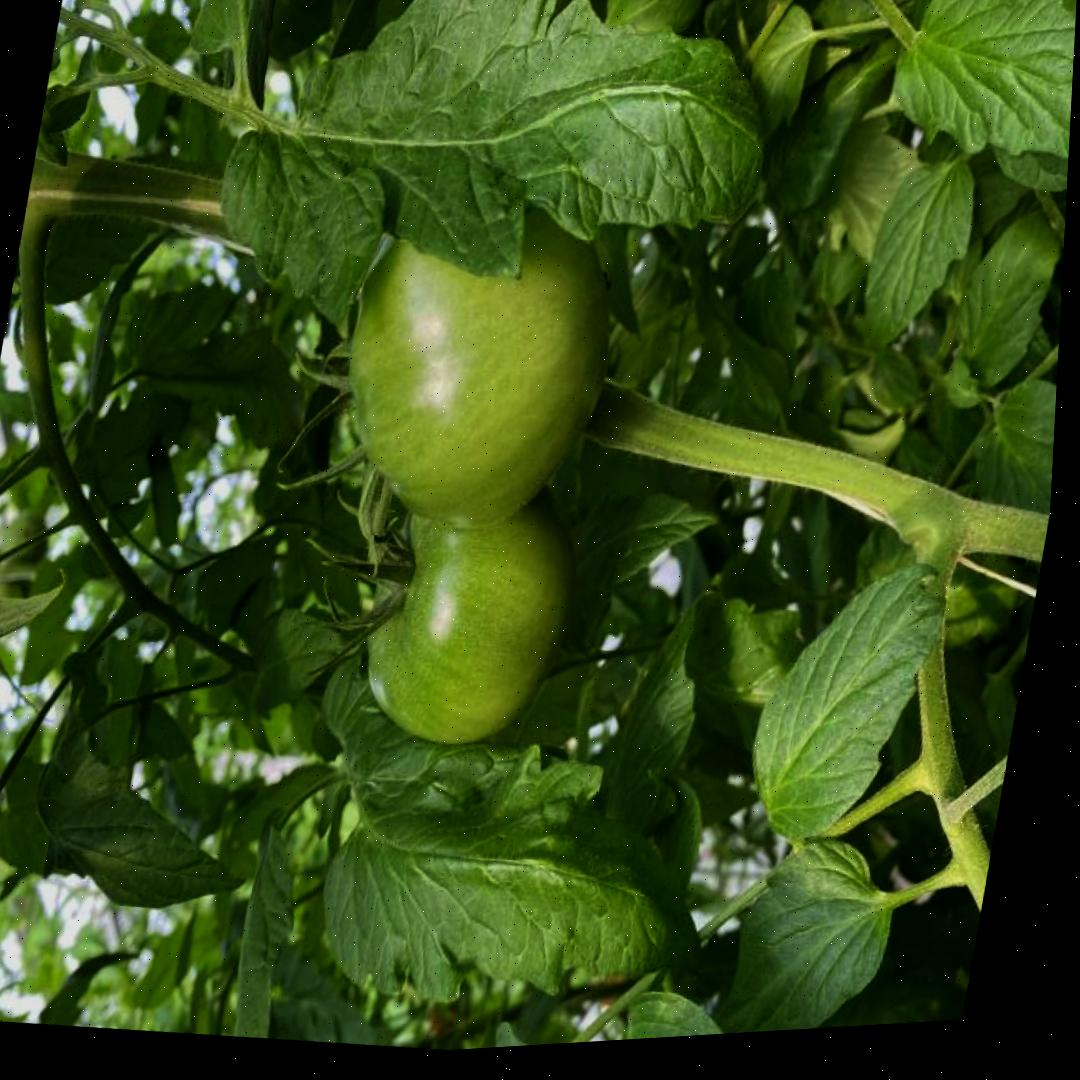mentah: (319, 153, 640, 550), (342, 454, 597, 766)
